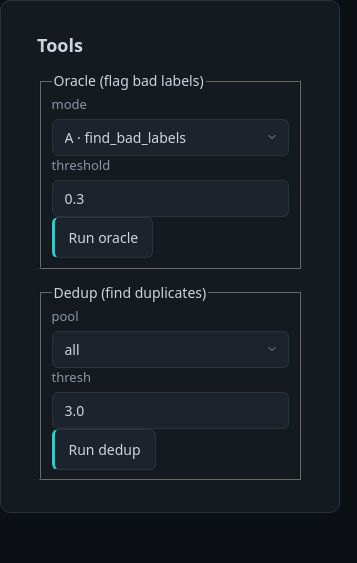
Scenario: Tools › launches an oracle job and shows progress to done
This screenshot has width=357, height=563.
Click the button "Run oracle" at (102, 237), box [52, 217, 153, 258]
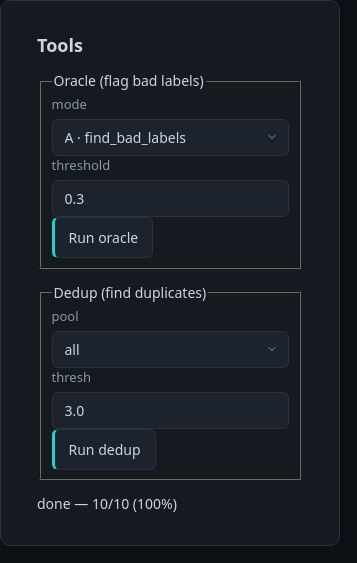
Now the text "done — 10/10 (100%)" is shown, box [37, 494, 177, 513]
